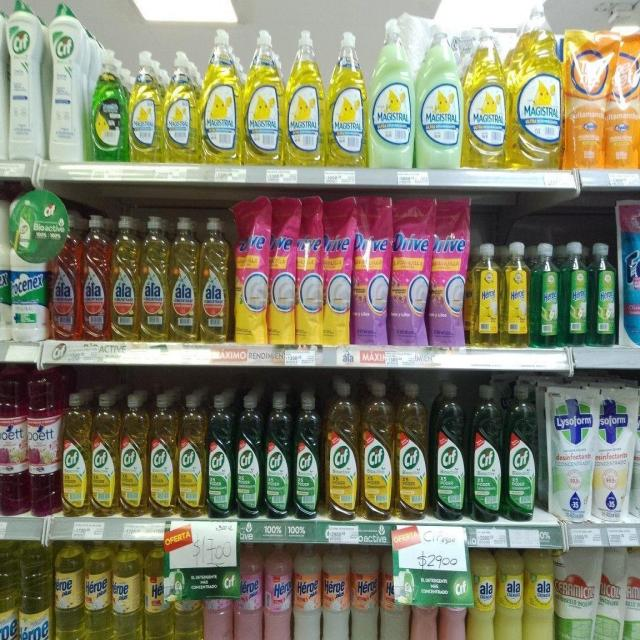ala_conc_amarillo: (199, 215, 230, 344), (110, 214, 139, 342), (140, 215, 168, 343), (170, 216, 198, 343)
ala_conc_rojo: (50, 218, 80, 342), (82, 214, 110, 342)
ala_crem_amarillo: (524, 548, 554, 640), (496, 549, 523, 640), (468, 549, 495, 640)
cif_conc_bot_amarilla: (324, 379, 359, 520), (395, 381, 429, 520), (361, 380, 394, 520), (178, 392, 206, 518), (62, 392, 90, 518), (149, 392, 177, 517), (120, 393, 148, 517), (91, 392, 118, 518)
cif_conc_botella_verde: (469, 382, 503, 522), (432, 380, 466, 520), (505, 382, 538, 522), (293, 390, 322, 520), (264, 391, 292, 519), (207, 392, 234, 518), (236, 393, 262, 519)
drive: (390, 197, 429, 347), (430, 196, 467, 348), (353, 195, 389, 346), (324, 196, 351, 345), (270, 196, 296, 344)
heroe: (18, 540, 53, 640), (54, 540, 84, 640), (112, 540, 142, 640), (144, 542, 174, 640), (264, 540, 292, 640), (235, 541, 263, 640), (350, 545, 379, 640), (293, 542, 321, 640), (380, 549, 410, 640), (85, 540, 112, 640), (322, 544, 350, 640), (0, 544, 18, 640)
magistral_con_amarillo: (510, 1, 562, 170), (464, 5, 508, 168), (200, 28, 242, 165), (286, 28, 326, 167), (244, 28, 284, 166), (327, 29, 366, 167), (164, 50, 198, 164), (129, 50, 162, 163)
magistral_con_crema: (416, 13, 462, 169), (369, 15, 414, 169)
